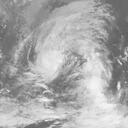cyclone: (26, 39, 68, 84)
